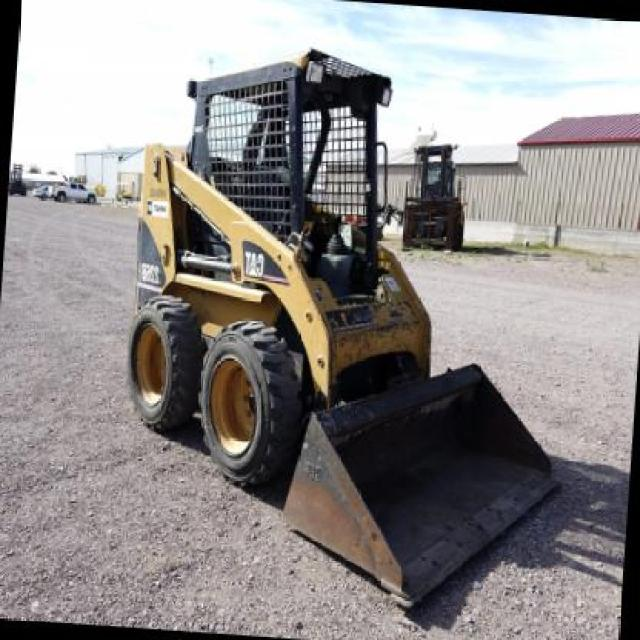buldozerpayloadergrader: (95, 57, 594, 615)
